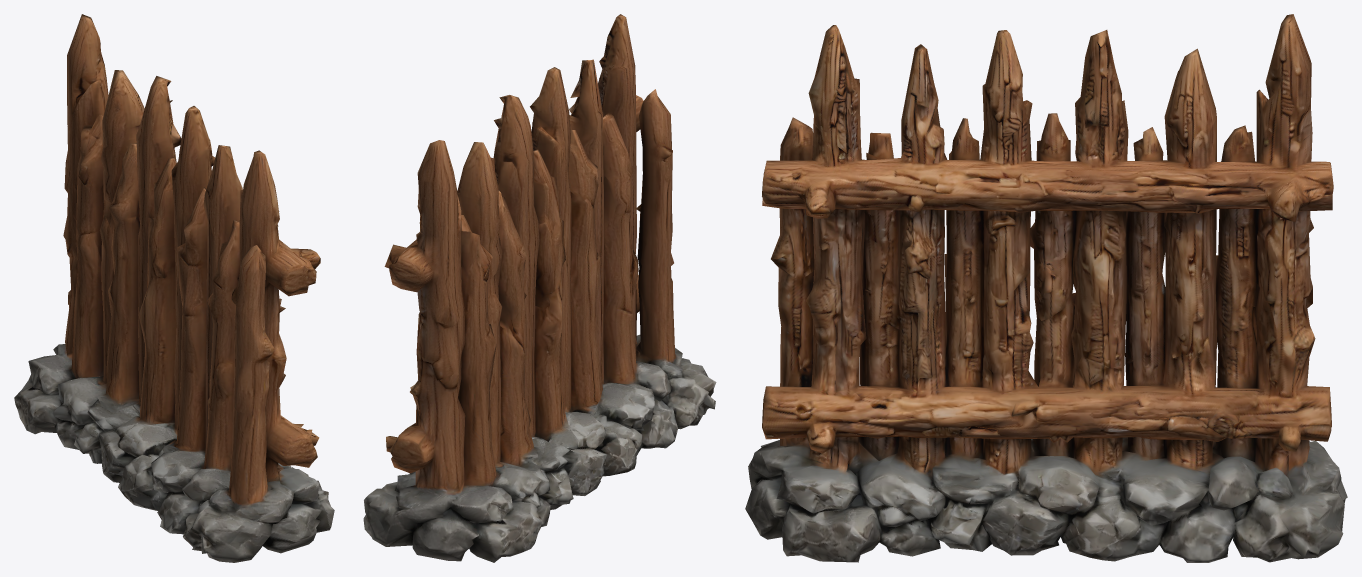
Rendered from palisade.glb.
3 views of the same model, side by side, from view 1: azimuth 30°, elevation 25°; view 2: azimuth 150°, elevation 25°; view 3: azimuth 270°, elevation 25° (orthographic). The views are drawn at different scales.
Visible parts, largest first — view 1: tripo_node_d8231f88-9efe-408b-a442-f4cf72874ac4; view 2: tripo_node_d8231f88-9efe-408b-a442-f4cf72874ac4; view 3: tripo_node_d8231f88-9efe-408b-a442-f4cf72874ac4.
Boxes of the visible parts, bbox=[...] form: tripo_node_d8231f88-9efe-408b-a442-f4cf72874ac4: bbox=[14, 14, 334, 562]; tripo_node_d8231f88-9efe-408b-a442-f4cf72874ac4: bbox=[363, 14, 716, 562]; tripo_node_d8231f88-9efe-408b-a442-f4cf72874ac4: bbox=[745, 14, 1347, 562].
Bounding box in the file's own units: 0.3633 × 0.9322 × 1.
Materials: 1 (1 with a texture image).
